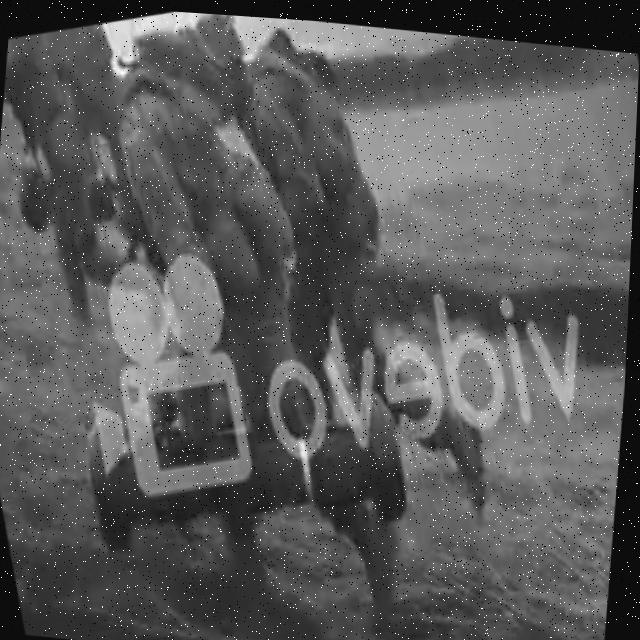rocket: (81, 355, 416, 575)
